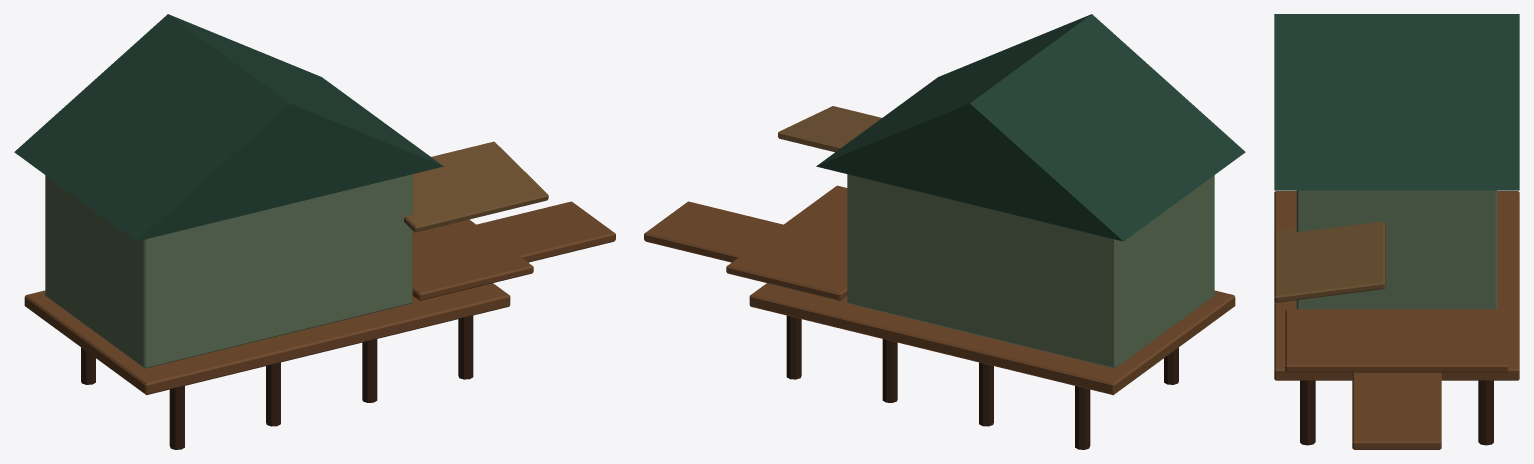
Rendered from LumenGlowmereStiltHouseV2.glb.
The picture shows the model from 3 angles, left to right: view 1: azimuth 30°, elevation 25°; view 2: azimuth 150°, elevation 25°; view 3: azimuth 270°, elevation 25°; orthographic projection.
Parts seen in each view (by area): view 1: LumenGlowmereStiltHouseV2; view 2: LumenGlowmereStiltHouseV2; view 3: LumenGlowmereStiltHouseV2.
Part boxes in pixels (box(x1,y1,x2,y2)): LumenGlowmereStiltHouseV2: box(14, 14, 615, 449); LumenGlowmereStiltHouseV2: box(644, 14, 1245, 449); LumenGlowmereStiltHouseV2: box(1274, 14, 1519, 449).
Size of the model in its own units: 27 by 16.5 by 11.
Materials: 1 (1 with a texture image).
